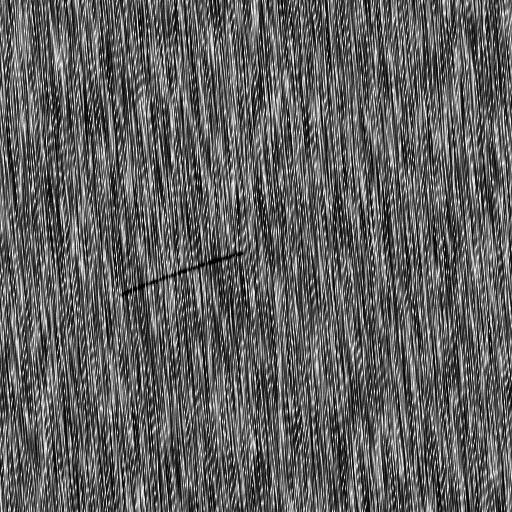DefectTypeC: (128, 248, 241, 298)
